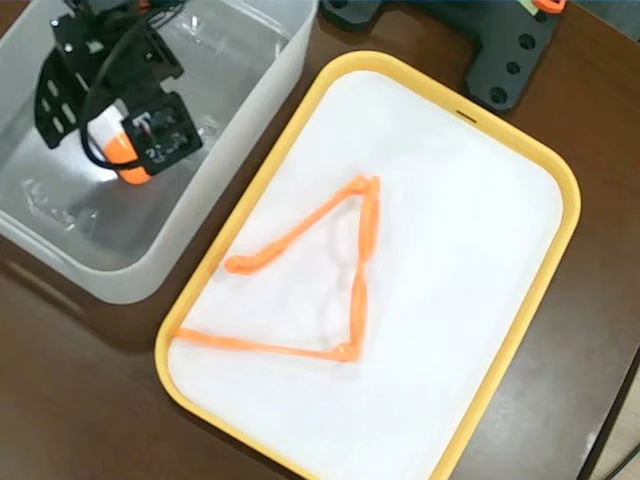pill: (86, 108, 152, 187)
